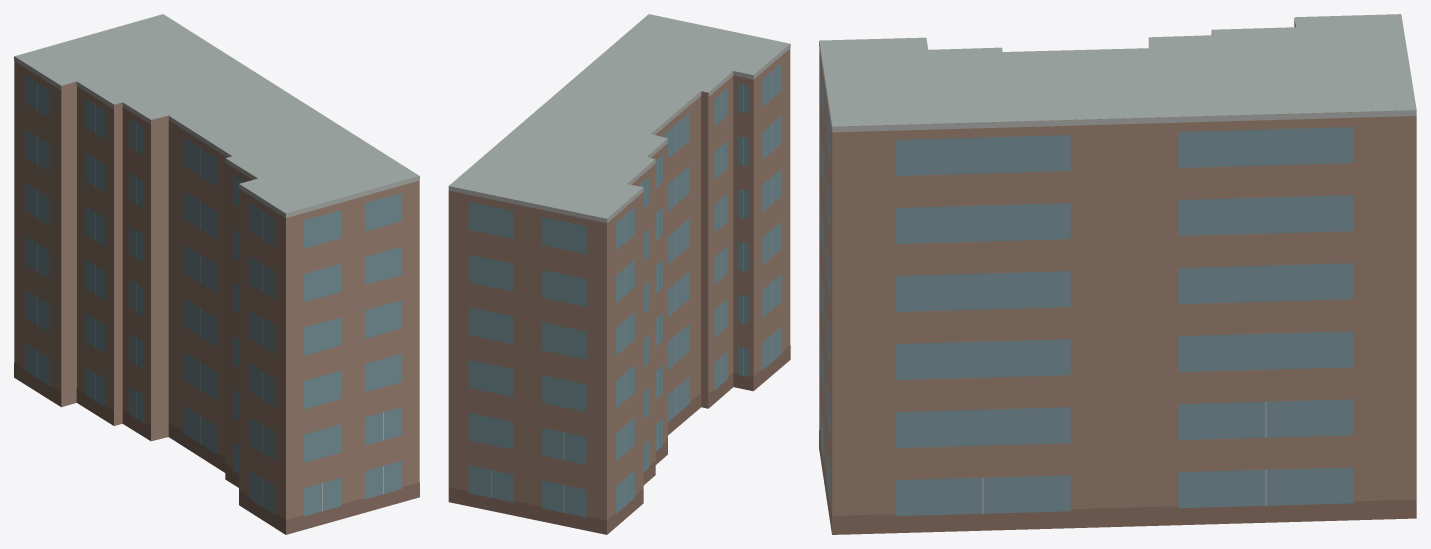
File: survey-upis-32656064.glb
The picture shows the model from 3 angles, left to right: view 1: azimuth 30°, elevation 25°; view 2: azimuth 150°, elevation 25°; view 3: azimuth 270°, elevation 25°; orthographic projection. The views are drawn at different scales.
Visible parts, largest first — view 1: survey-upis-32656064.tmp; view 2: survey-upis-32656064.tmp; view 3: survey-upis-32656064.tmp.
Part boxes in pixels (box(x1,y1,x2,y2)): survey-upis-32656064.tmp: box(14, 14, 419, 534); survey-upis-32656064.tmp: box(448, 14, 790, 534); survey-upis-32656064.tmp: box(819, 14, 1416, 534).
Bounding box in the file's own units: 10.12 × 17.1 × 22.69.
